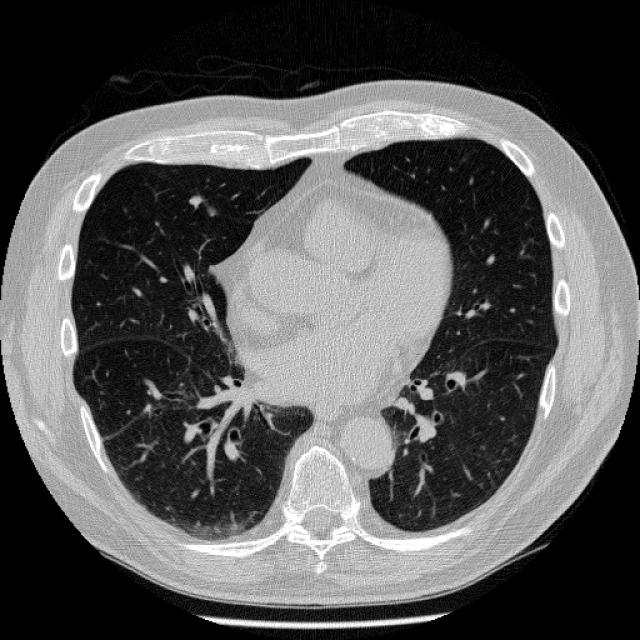nodule: (183, 189, 205, 211)
